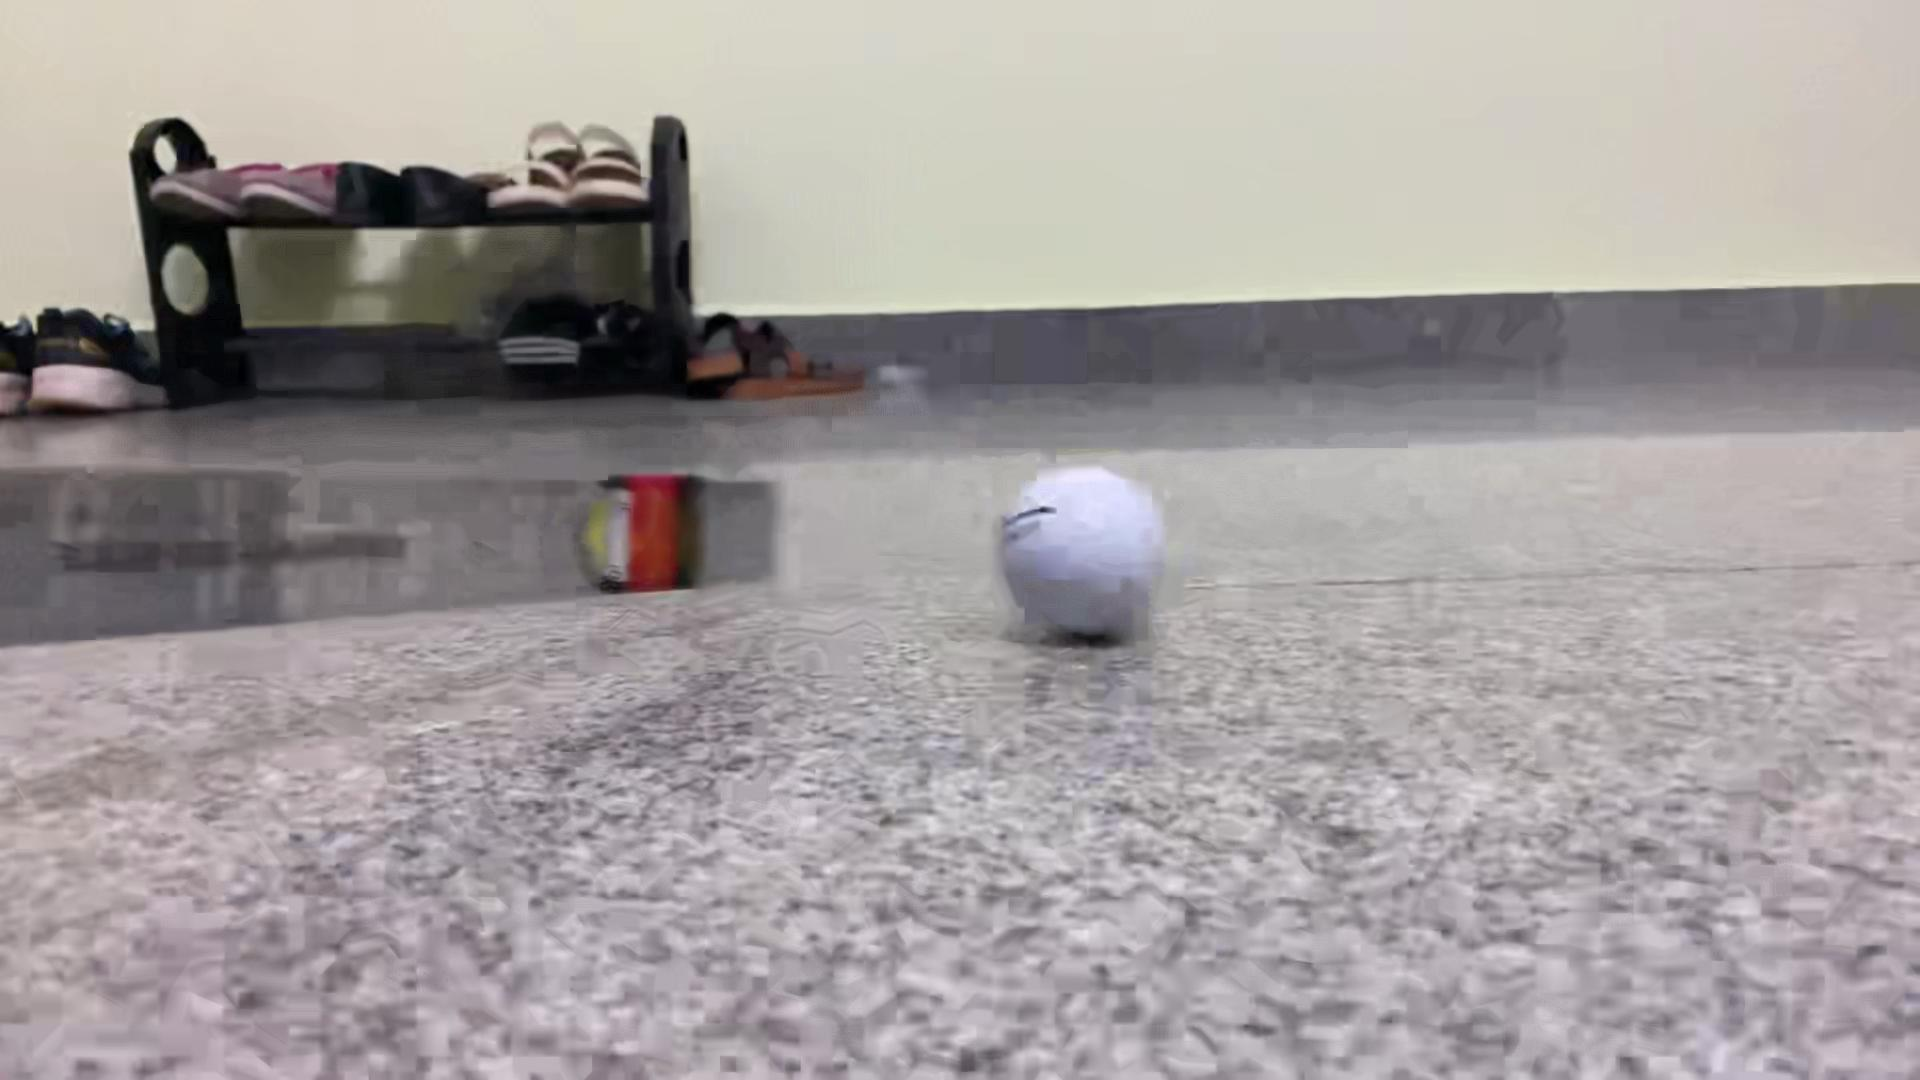golfball: (997, 467, 1173, 640)
